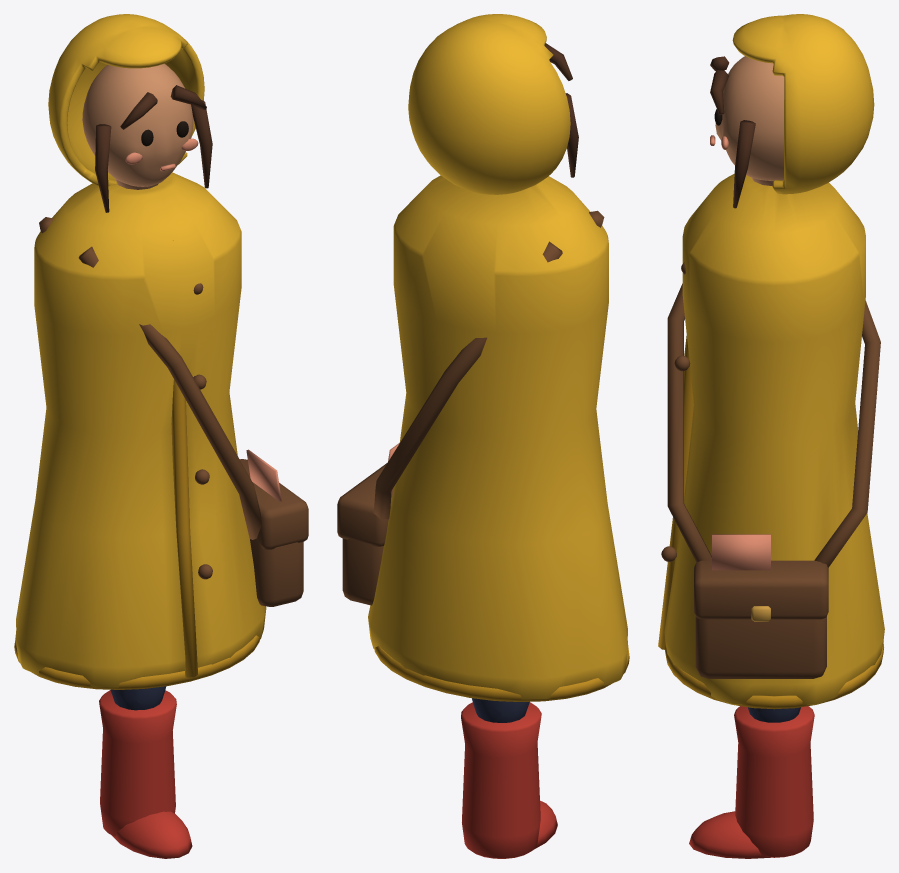
The model's file is wren.glb.
3 views of the same model, side by side, from view 1: azimuth 30°, elevation 25°; view 2: azimuth 150°, elevation 25°; view 3: azimuth 270°, elevation 25° (orthographic). The views are drawn at different scales.
Parts seen in each view (by area): view 1: wr_body, wr_leg; view 2: wr_body, wr_leg; view 3: wr_body, wr_leg.
Boxes of the visible parts, bbox=[...] form: wr_body: bbox=[14, 14, 308, 689]; wr_leg: bbox=[99, 686, 192, 858]; wr_body: bbox=[337, 14, 629, 701]; wr_leg: bbox=[461, 698, 557, 858]; wr_body: bbox=[658, 14, 884, 709]; wr_leg: bbox=[689, 706, 814, 858].
Bounding box in the file's own units: 0.4621 × 1.38 × 0.345.
